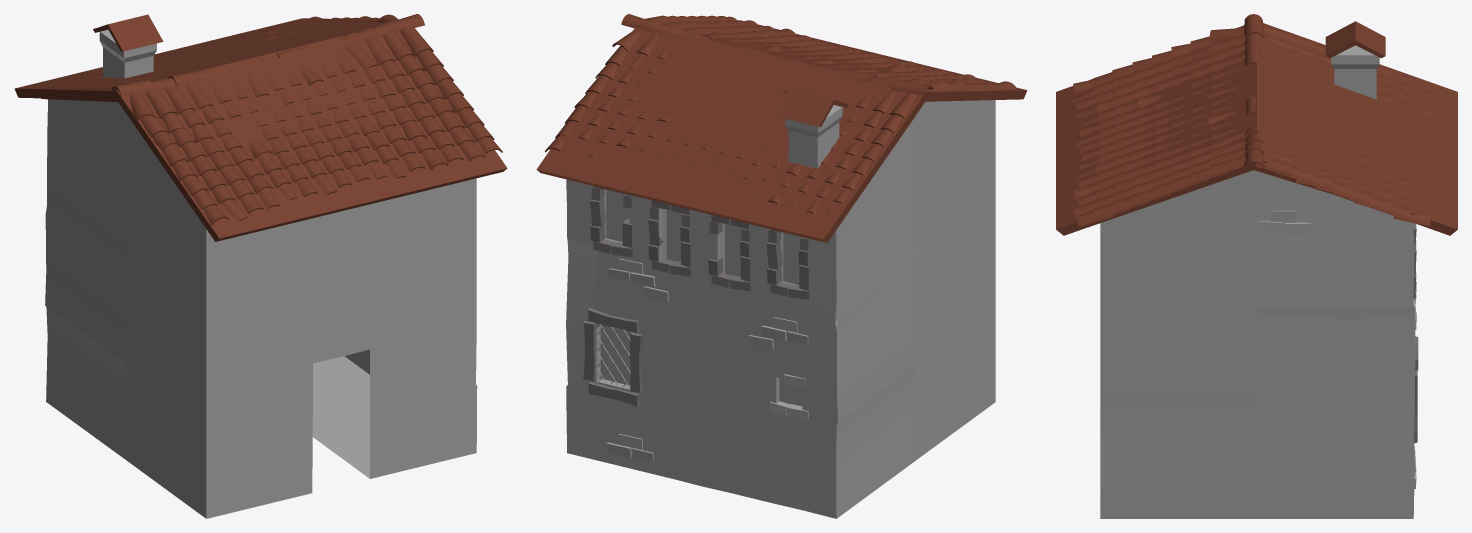
File: SM_BridgeHouse02.fbx
The picture shows the model from 3 angles, left to right: view 1: azimuth 30°, elevation 25°; view 2: azimuth 150°, elevation 25°; view 3: azimuth 270°, elevation 25°; orthographic projection. The views are drawn at different scales.
Parts seen in each view (by area): view 1: SM_BridgeHouse_02; view 2: SM_BridgeHouse_02; view 3: SM_BridgeHouse_02.
Boxes of the visible parts, x1,y1,x2,y2 form: SM_BridgeHouse_02: (14,14,507,518); SM_BridgeHouse_02: (536,14,1027,518); SM_BridgeHouse_02: (1056,14,1457,518).
Bounding box in the file's own units: 1686 × 2076 × 1967.
